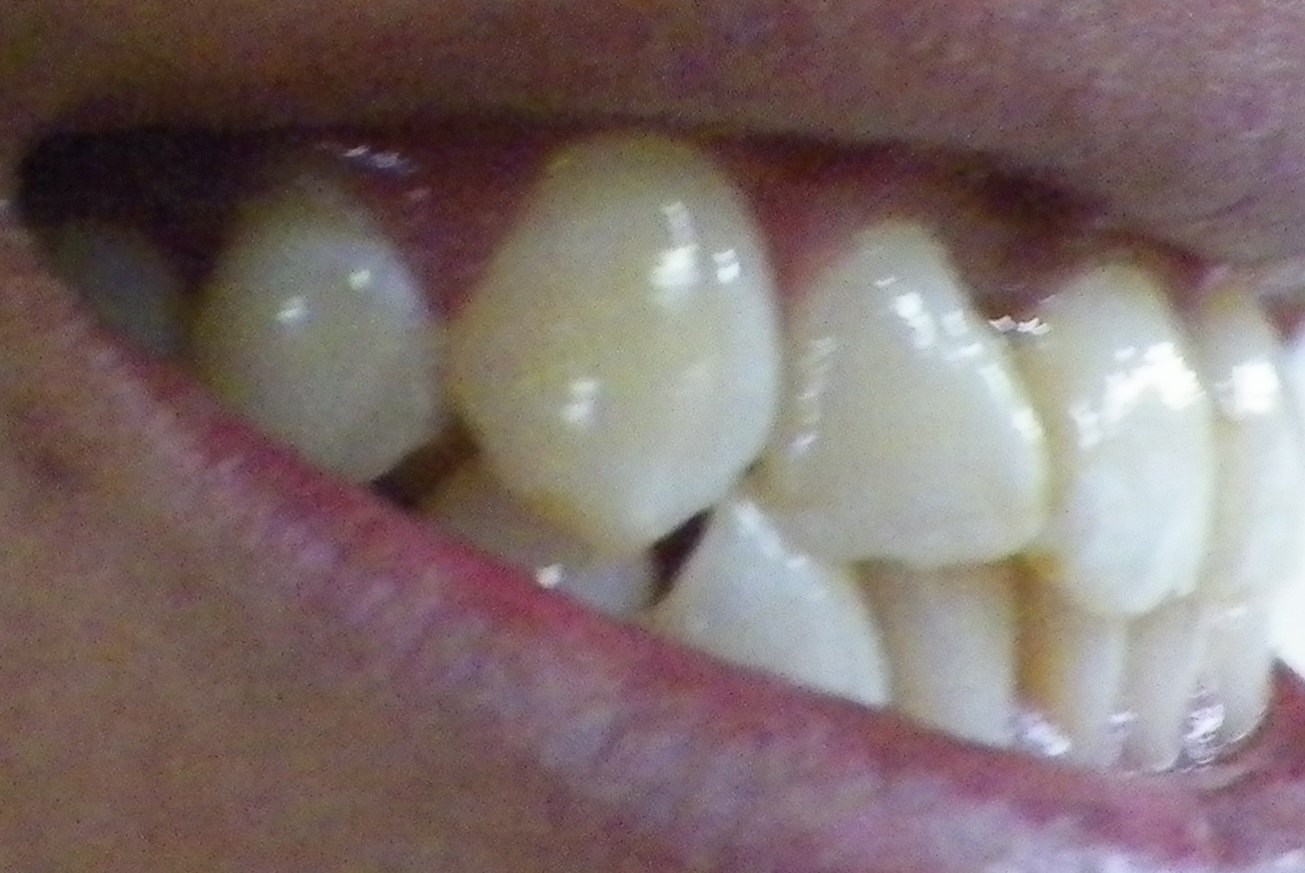boca: (214, 144, 1282, 755)
